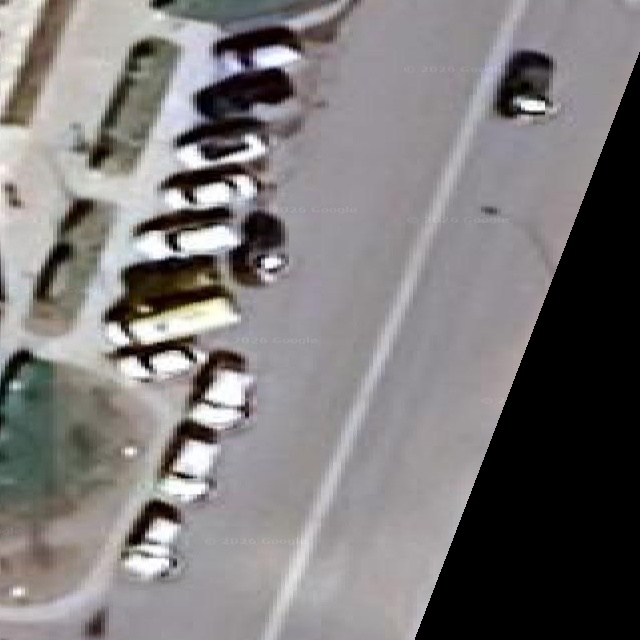car: (194, 69, 299, 123), (187, 351, 255, 432), (133, 208, 240, 259), (158, 422, 220, 503), (121, 500, 182, 581), (175, 117, 268, 169), (160, 165, 264, 210), (213, 26, 304, 76), (496, 51, 559, 121), (232, 211, 289, 284), (110, 342, 205, 381)
